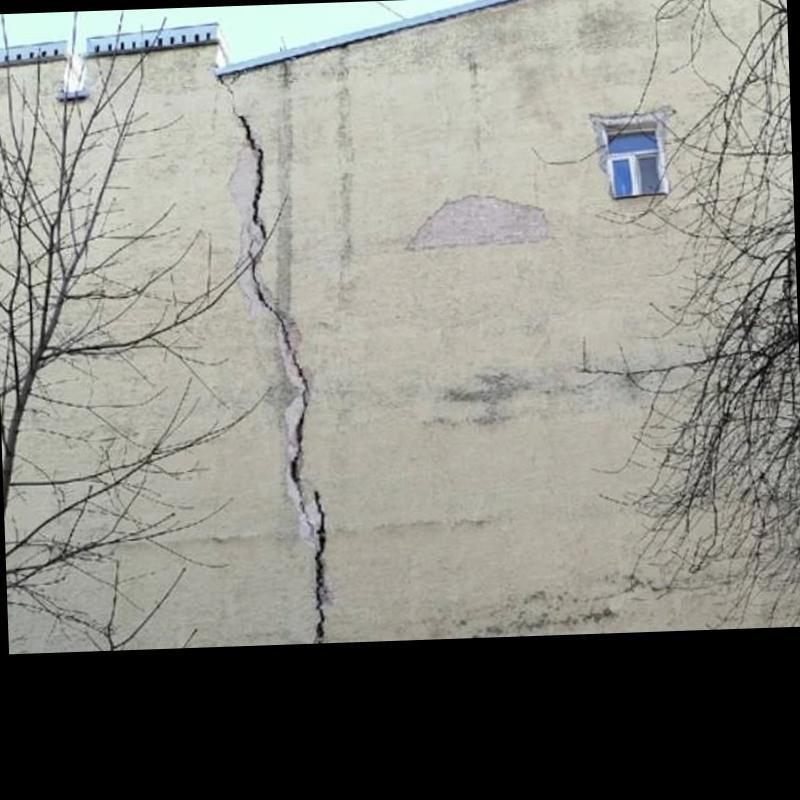pothole: (248, 239, 291, 350), (290, 350, 309, 498), (314, 490, 327, 637), (251, 148, 267, 238), (232, 105, 256, 149), (218, 73, 239, 101), (298, 501, 309, 518)
